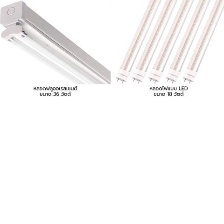light_bulb: (13, 28, 112, 94), (7, 36, 97, 99), (112, 0, 170, 86), (146, 0, 201, 85), (130, 0, 183, 88), (164, 0, 211, 84), (181, 0, 224, 84)
